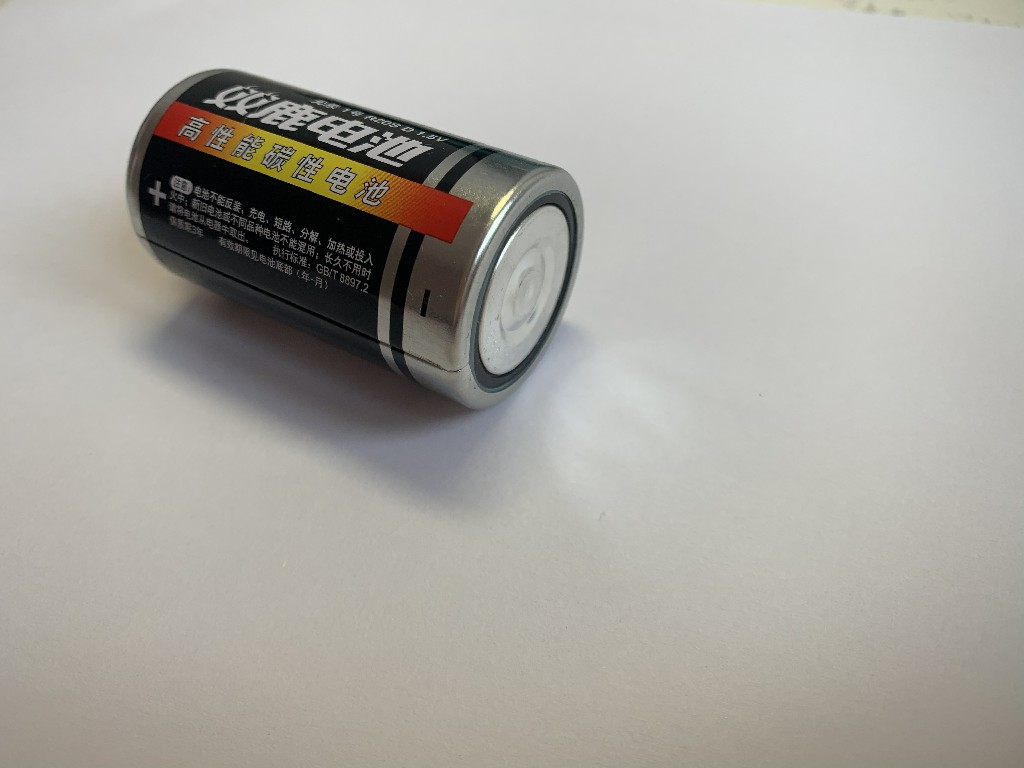charge: (120, 61, 588, 417)
